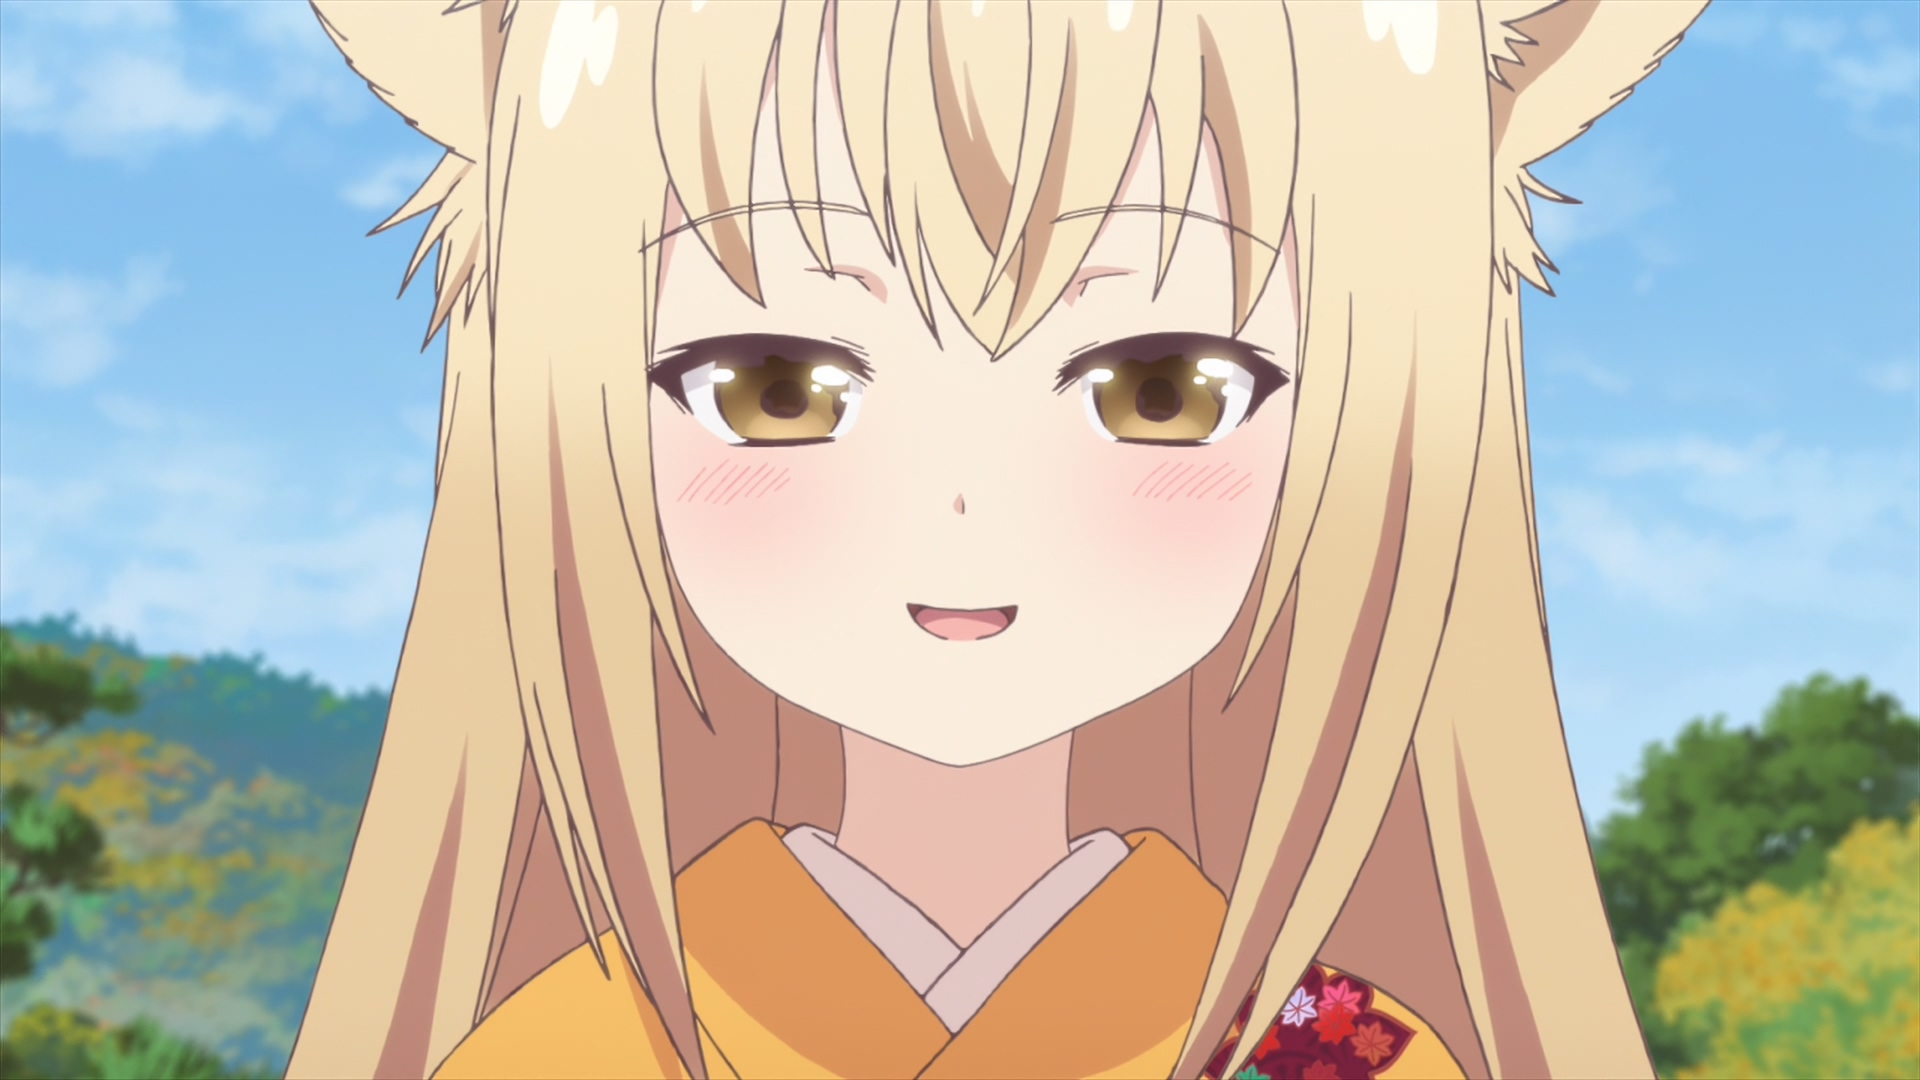柚: (285, 1, 1712, 1080)
